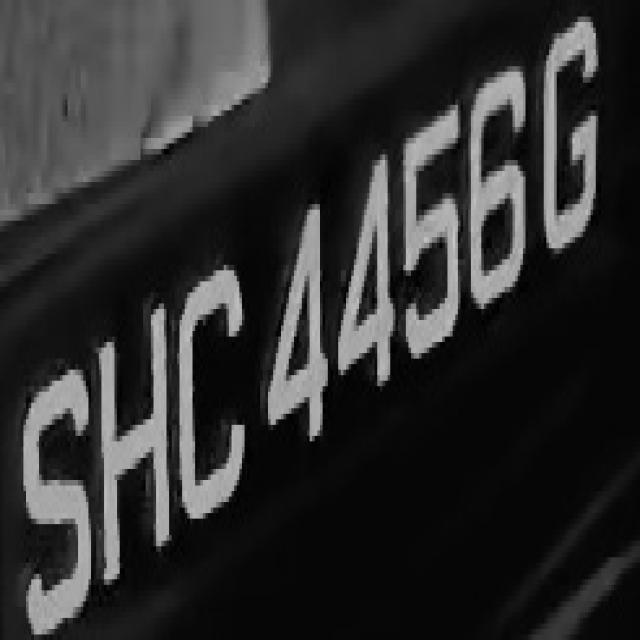4: (255, 182, 328, 458), (328, 149, 398, 414)
5: (393, 88, 466, 381)
6: (466, 49, 530, 314)
C: (172, 259, 250, 530)
G: (536, 11, 606, 259)
H: (94, 298, 180, 601)
S: (21, 353, 94, 635)
